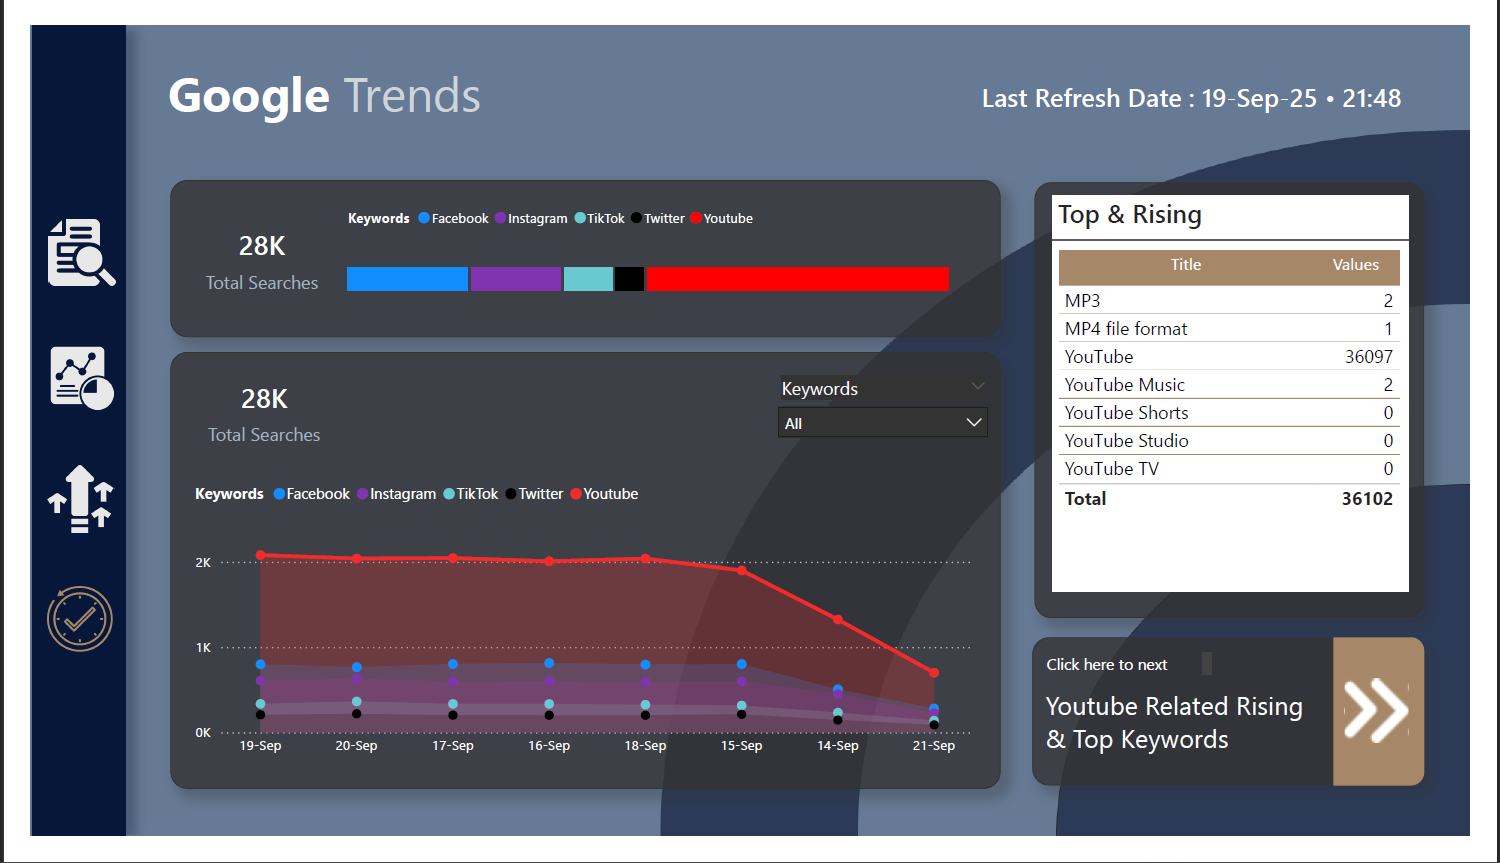

What the dashboard file says about the page in this screenshot:
{"tool":"powerbi","page":{"name":"Real Time","canvas":[1280,720],"ordinal":3},"visuals":[{"type":"shape","box":[892.9,138.6,347.1,388.6],"z":0},{"type":"shape","box":[124.3,137.1,738.6,140],"z":1000},{"type":"shape","box":[124.3,290,738.6,388.6],"z":2000},{"type":"areaChart","fields":{"Category":["By_Date_(Past 7 Days).New_Date"],"Y":["By_Date_(Past 7 Days).Last_7_Days_Value"],"Series":["By_Date_(Past 7 Days).Keywords"]},"box":[141.4,395.7,701.4,262.9],"z":3000},{"type":"slicer","fields":{"Values":["By_Date_(Past 7 Days).Keywords"]},"box":[655.3,305.7,207.1,71.4],"z":4000},{"type":"card","fields":{"Values":["By_Date_(Past 7 Days).Last_7_Days_Value"]},"box":[143.9,305.7,127.1,80],"z":5000},{"type":"card","fields":{"Values":["By_Date_(Past 7 Days).Last_7_Days_Value"]},"box":[142.3,170.6,126.4,79.8],"z":6000},{"type":"barChart","fields":{"Y":["By_Date_(Past 7 Days).Last_7_Days_Value"],"Series":["By_Date_(Past 7 Days).Keywords"]},"box":[277.1,151.4,585.7,112.9],"z":7000},{"type":"tableEx","title":"Top & Rising","fields":{"Values":["Top_Rising.Title","Sum(Top_Rising.Values)"]},"box":[908.6,151.4,317.1,351.4],"z":11000},{"type":"shape","box":[1.4,0,82.9,720],"z":12000},{"type":"card","fields":{"Values":["Min(Refresh_Date.Refresh_Date)"]},"box":[808.3,23.3,450,83.3],"z":13000},{"type":"textbox","box":[117.1,25.7,318.6,78.6],"z":14000},{"type":"image","box":[11.4,167.1,69,69],"z":15000},{"type":"image","box":[10,277.1,71.4,71.4],"z":16000},{"type":"image","box":[8.6,492.9,70,70],"z":17000},{"type":"image","box":[8.6,385.7,70,70],"z":18000},{"type":"shape","box":[891.4,544.3,348.6,131.4],"z":18001},{"type":"actionButton","box":[1158.9,544.4,81.1,131.1],"z":18002},{"type":"textbox","box":[898.9,553.3,156.7,32.2],"z":18003},{"type":"shape","box":[903.3,585.6,235.6,66.7],"z":18004}]}

Visuals, with their boxes on the page's 1280x720 design canvas (x1, y1, x2, y2). These are canvas units, not pixel positions in the 1500x863 screenshot, which may show the page scaled, cropped or inside an application window:
shape: 893,139,1240,527
shape: 124,137,863,277
shape: 124,290,863,679
areaChart - By_Date_(Past 7 Days).New_Date x By_Date_(Past 7 Days).Last_7_Days_Value: 141,396,843,659
slicer - By_Date_(Past 7 Days).Keywords: 655,306,862,377
card - By_Date_(Past 7 Days).Last_7_Days_Value: 144,306,271,386
card - By_Date_(Past 7 Days).Last_7_Days_Value: 142,171,269,250
barChart - By_Date_(Past 7 Days).Last_7_Days_Value x By_Date_(Past 7 Days).Keywords: 277,151,863,264
"Top & Rising" tableEx: 909,151,1226,503
shape: 1,0,84,720
card - Min(Refresh_Date.Refresh_Date): 808,23,1258,107
textbox: 117,26,436,104
image: 11,167,80,236
image: 10,277,81,348
image: 9,493,79,563
image: 9,386,79,456
shape: 891,544,1240,676
actionButton: 1159,544,1240,676
textbox: 899,553,1056,586
shape: 903,586,1139,652
